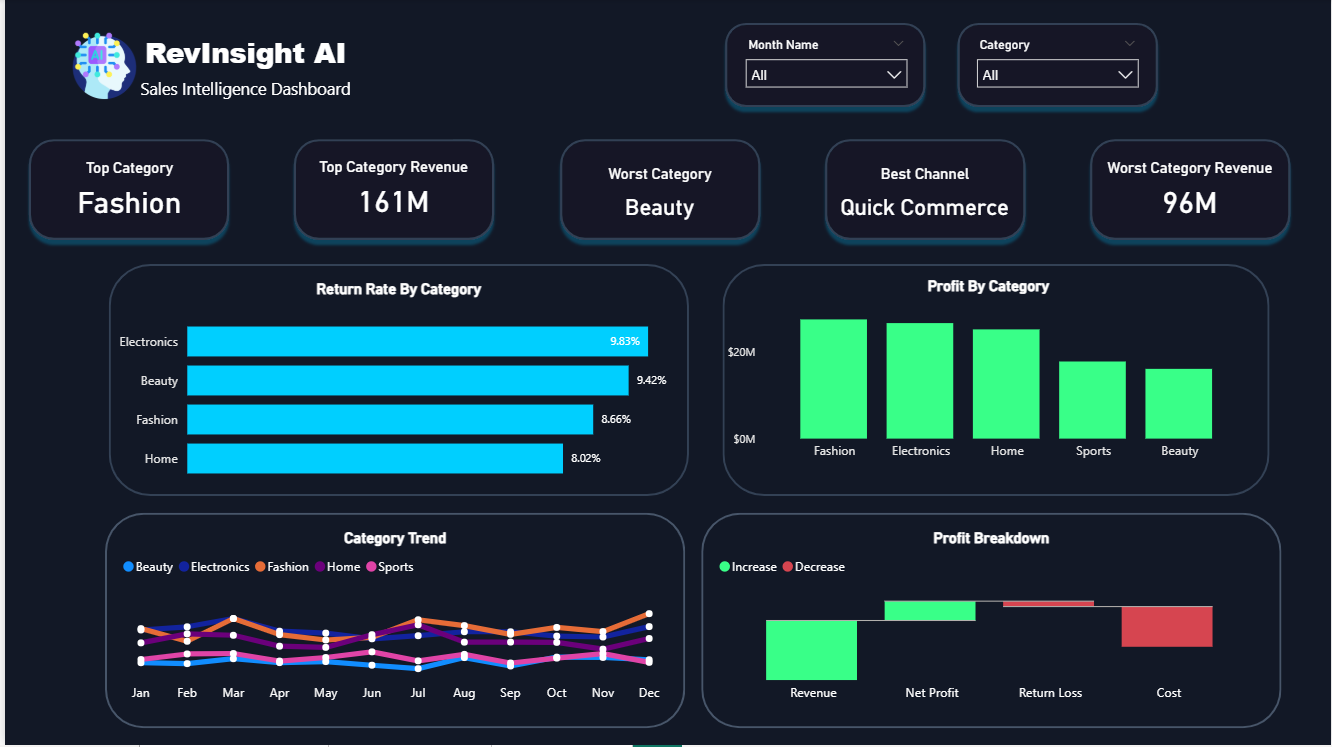

The dashboard page shown, as its layout file describes it:
{"tool":"powerbi","page":{"name":"Sales Dashboard","canvas":[1280,720],"ordinal":1},"visuals":[{"type":"shape","box":[32,16,400,96],"z":0},{"type":"shape","box":[16,128,208,112],"z":0,"group":"g1"},{"type":"shape","box":[1040,128,208,112],"z":0,"group":"g4"},{"type":"shape","title":"RevInsight AI","box":[48,32,368,64],"z":1000},{"type":"shape","box":[272,128,208,112],"z":1000,"group":"g2"},{"type":"group","id":"g1","title":"Group 1","box":[16,128,208,112],"z":2000},{"type":"shape","box":[528,128,208,112],"z":2000,"group":"g3"},{"type":"shape","box":[784,128,208,112],"z":2000,"group":"g5"},{"type":"group","id":"g2","title":"Group 2","box":[272,128,208,128],"z":3000},{"type":"shape","title":"Revenue Trend","box":[96,496,560,208],"z":3000,"group":"g8"},{"type":"shape","title":"Revenue Trend","box":[672,496,560,208],"z":3000,"group":"g9"},{"type":"group","id":"g3","title":"Group 3","box":[528,128,192,112],"z":4000},{"type":"shape","box":[100.3,256,560,224],"z":4000,"group":"g6"},{"type":"shape","box":[692.3,256,528,224],"z":4000,"group":"g7"},{"type":"group","id":"g4","title":"Group 6","box":[1040,128,208,112],"z":5000},{"type":"group","id":"g5","title":"Group 3","box":[784,128,208,112],"z":6000},{"type":"group","id":"g6","title":"Group 11","box":[100.3,256,560,224],"z":7000},{"type":"group","id":"g7","title":"Group 11","box":[692.3,256,528,224],"z":8000},{"type":"group","id":"g8","title":"Group 8","box":[96,496,560,208],"z":9000},{"type":"group","id":"g9","title":"Group 8","box":[672,496,560,208],"z":10000},{"type":"shape","box":[688,16,208,96],"z":11000},{"type":"slicer","title":"Year","fields":{"Values":["Dim_Date.Month Name"]},"box":[704,32,176,64],"z":12000},{"type":"card","title":"Worst Category Revenue","fields":{"Values":["KPI_Table.Worst Category Revenue"]},"box":[1057.3,154.4,173.3,64],"z":12000,"group":"g4"},{"type":"shape","box":[912,16,208,96],"z":13000},{"type":"slicer","title":"Year","fields":{"Values":["Fact_Sales.Category"]},"box":[928,32,176,64],"z":14000},{"type":"image","box":[0,32,192,64],"z":15000},{"type":"clusteredColumnChart","title":"Profit By Category ","fields":{"Category":["Fact_Sales.Category"],"Y":["KPI_Table.Total Profit"]},"box":[692.3,268.4,513.3,186.7],"z":15000,"group":"g7"},{"type":"clusteredBarChart","title":"Return Rate By Category","fields":{"Category":["Fact_Sales.Category"],"Y":["KPI_Table.Return Rate %"]},"box":[100.3,272,560,208],"z":15000,"group":"g6"},{"type":"card","title":"Top Category","fields":{"Values":["KPI_Table.Top Category Name"]},"box":[48,154.4,144,64],"z":17000,"group":"g1"},{"type":"lineChart","title":"Category Trend","fields":{"Category":["Dim_Date.Month Name"],"Y":["Sum(Fact_Sales.Revenue)"],"Series":["Fact_Sales.Category"]},"box":[107.9,512,536.2,176],"z":17000,"group":"g8"},{"type":"waterfallChart","title":"Profit Breakdown","fields":{"Category":["Waterfall Table.Metric"],"Y":["Waterfall Table.Waterfall Value"]},"box":[683.9,512,536.2,176],"z":17000,"group":"g9"},{"type":"card","title":"Top Category Revenue","fields":{"Values":["KPI_Table.Top Category Revenue"]},"box":[289.3,153.3,173.3,64],"z":18000,"group":"g2"},{"type":"card","title":"Worst Category","fields":{"Values":["KPI_Table.Worst Category"]},"box":[544,160,176,64],"z":19000,"group":"g3"},{"type":"card","title":"Best Channel","fields":{"Values":["KPI_Table.Best Channel"]},"box":[800,160,176,64],"z":19000,"group":"g5"}]}

Visuals, with their boxes in screenshot pixels (x1, y1, x2, y2), scaled from the page's 1280x720 canvas onto the 1332x747 screenshot:
shape: (left=33, top=17, right=450, bottom=116)
shape: (left=17, top=133, right=233, bottom=249)
shape: (left=1082, top=133, right=1299, bottom=249)
"RevInsight AI" shape: (left=50, top=33, right=433, bottom=100)
shape: (left=283, top=133, right=499, bottom=249)
"Group 1" group: (left=17, top=133, right=233, bottom=249)
shape: (left=549, top=133, right=766, bottom=249)
shape: (left=816, top=133, right=1032, bottom=249)
"Group 2" group: (left=283, top=133, right=499, bottom=266)
"Revenue Trend" shape: (left=100, top=515, right=683, bottom=730)
"Revenue Trend" shape: (left=699, top=515, right=1282, bottom=730)
"Group 3" group: (left=549, top=133, right=749, bottom=249)
shape: (left=104, top=266, right=687, bottom=498)
shape: (left=720, top=266, right=1270, bottom=498)
"Group 6" group: (left=1082, top=133, right=1299, bottom=249)
"Group 3" group: (left=816, top=133, right=1032, bottom=249)
"Group 11" group: (left=104, top=266, right=687, bottom=498)
"Group 11" group: (left=720, top=266, right=1270, bottom=498)
"Group 8" group: (left=100, top=515, right=683, bottom=730)
"Group 8" group: (left=699, top=515, right=1282, bottom=730)
shape: (left=716, top=17, right=932, bottom=116)
"Year" slicer: (left=733, top=33, right=916, bottom=100)
"Worst Category Revenue" card: (left=1100, top=160, right=1281, bottom=227)
shape: (left=949, top=17, right=1166, bottom=116)
"Year" slicer: (left=966, top=33, right=1149, bottom=100)
image: (left=0, top=33, right=200, bottom=100)
"Profit By Category " clusteredColumnChart: (left=720, top=278, right=1255, bottom=472)
"Return Rate By Category" clusteredBarChart: (left=104, top=282, right=687, bottom=498)
"Top Category" card: (left=50, top=160, right=200, bottom=227)
"Category Trend" lineChart: (left=112, top=531, right=670, bottom=714)
"Profit Breakdown" waterfallChart: (left=712, top=531, right=1270, bottom=714)
"Top Category Revenue" card: (left=301, top=159, right=481, bottom=225)
"Worst Category" card: (left=566, top=166, right=749, bottom=232)
"Best Channel" card: (left=832, top=166, right=1016, bottom=232)
